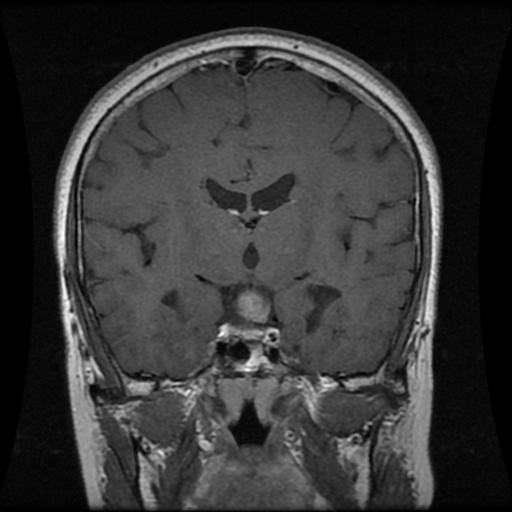pituitary: (235, 286, 271, 322)
